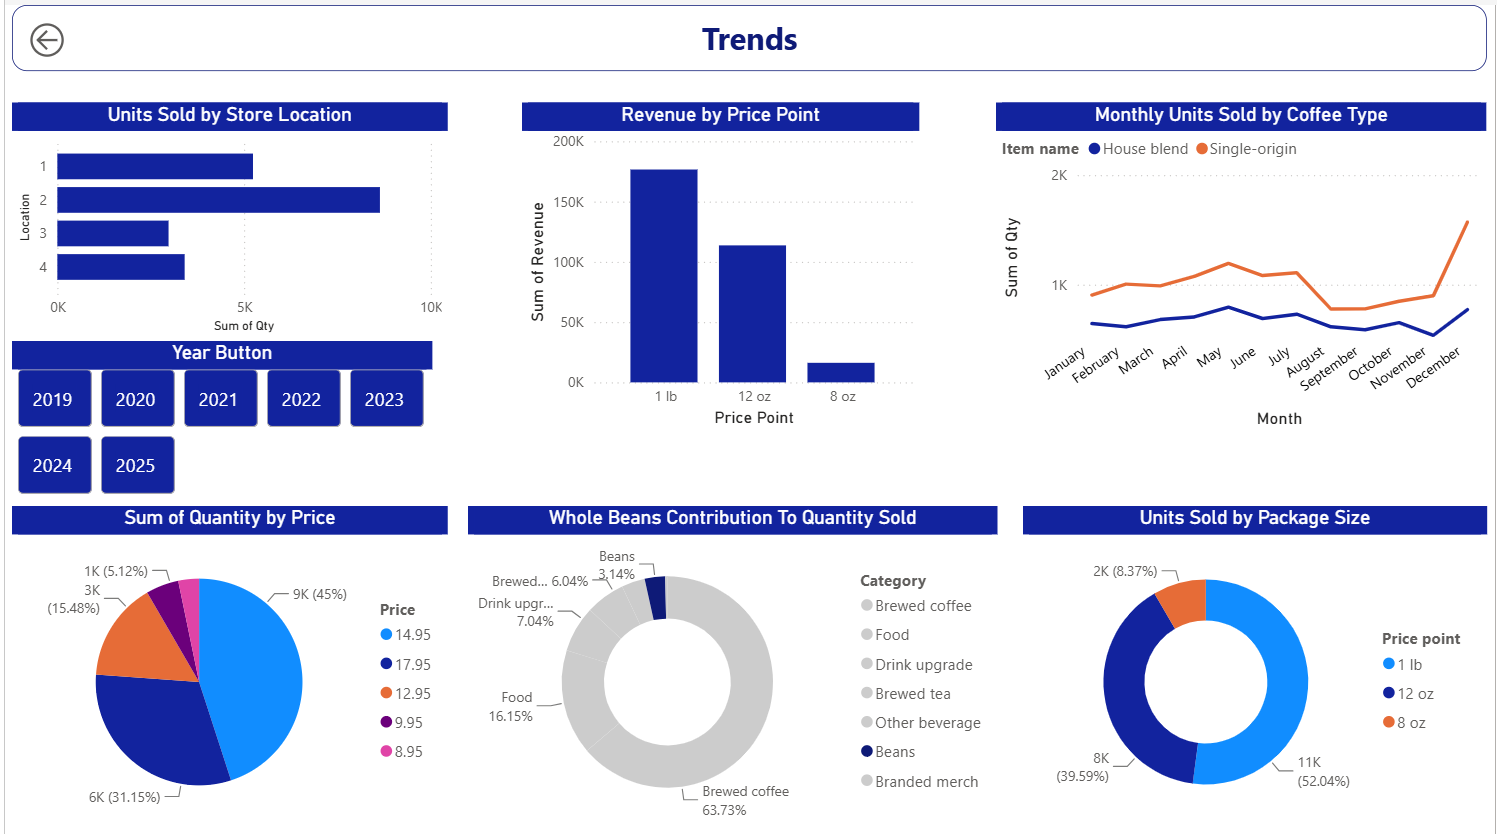

The page's visual inventory and layout, read from the dashboard file:
{"tool":"powerbi","page":{"name":"Trends","canvas":[1280,720],"ordinal":2},"visuals":[{"type":"lineChart","title":"Monthly Units Sold by Coffee Type","fields":{"Category":["TransactionData.Date.Variation.Date Hierarchy.Month"],"Series":["PriceList.Item name"],"Y":["Sum(TransactionData.Qty)"]},"box":[854,84.8,425.5,286.2],"z":0},{"type":"barChart","title":"Units Sold by Store Location","fields":{"Category":["TransactionData.Location"],"Y":["Sum(TransactionData.Qty)"]},"box":[0,85,378,204.1],"z":1000},{"type":"pieChart","title":"Sum of Quantity by Price","fields":{"Category":["PriceList.Price"],"Y":["Sum(TransactionData.Qty)"]},"box":[0,434.6,378,285.4],"z":2000},{"type":"columnChart","title":"Revenue by Price Point","fields":{"Category":["TransactionData.Price Point"],"Y":["Sum(TransactionData.Revenue)"]},"box":[441.9,85.1,344.5,285.4],"z":3000},{"type":"donutChart","title":"Units Sold by Package Size","fields":{"Category":["PriceList.Price point"],"Y":["Sum(TransactionData.Qty)"]},"box":[876.9,434.6,402.5,285.4],"z":4000},{"type":"textbox","box":[0,0,1279.5,57.5],"z":5000},{"type":"donutChart","title":"Whole Beans Contribution To Quantity Sold ","fields":{"Category":["PriceList.Category"],"Y":["Sum(TransactionData.Qty)"]},"box":[395,434.6,459.2,285.4],"z":6000},{"type":"advancedSlicerVisual","title":"Year Button","fields":{"Values":["TransactionData.Date.Variation.Date Hierarchy.Year"]},"box":[0,291.5,364.6,137.7],"z":7000},{"type":"actionButton","box":[10,10,100,40],"z":8000}]}

Visuals, with their boxes in screenshot pixels (x1, y1, x2, y2), scaled from the page's 1280x720 canvas onto the 1497x834 screenshot:
"Monthly Units Sold by Coffee Type" lineChart: (999,98,1496,430)
"Units Sold by Store Location" barChart: (0,98,442,335)
"Sum of Quantity by Price" pieChart: (0,503,442,833)
"Revenue by Price Point" columnChart: (517,99,920,429)
"Units Sold by Package Size" donutChart: (1026,503,1496,833)
textbox: (0,0,1496,67)
"Whole Beans Contribution To Quantity Sold " donutChart: (462,503,999,833)
"Year Button" advancedSlicerVisual: (0,338,426,497)
actionButton: (12,12,129,58)
